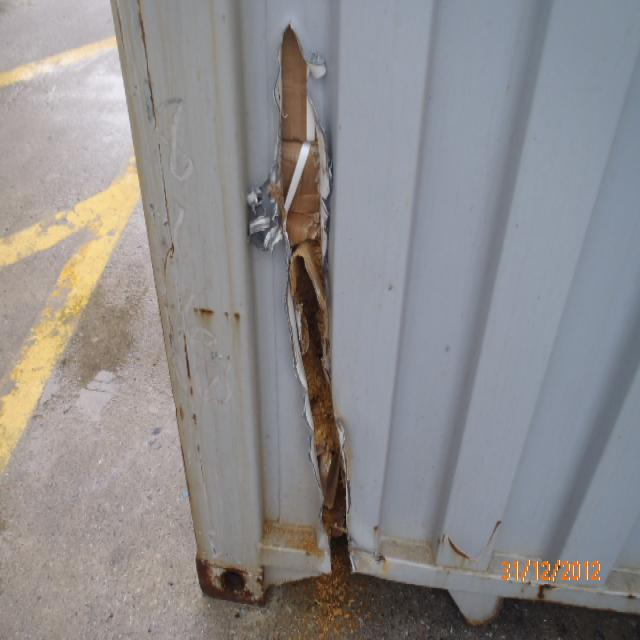hole: (244, 24, 360, 573)
